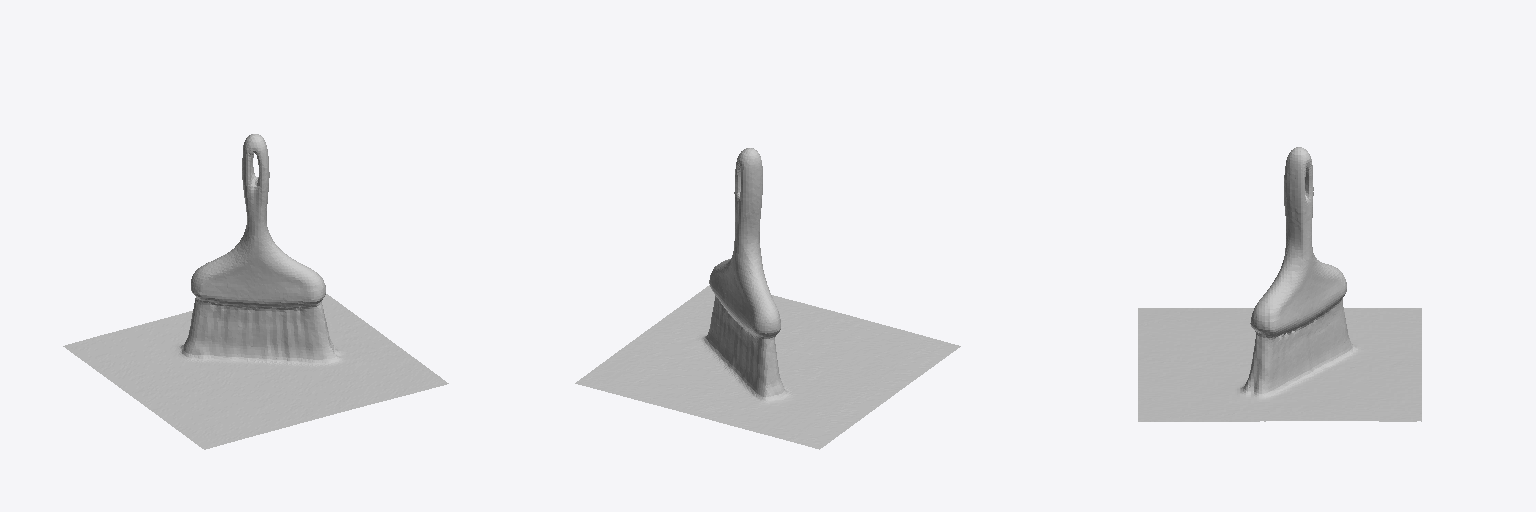
Rendered from broom.obj.
The picture shows the model from 3 angles: view 1: azimuth 30°, elevation 25°; view 2: azimuth 150°, elevation 25°; view 3: azimuth 270°, elevation 25°; orthographic projection.
Size of the model in its own units: 0.309 by 0.2701 by 0.309.